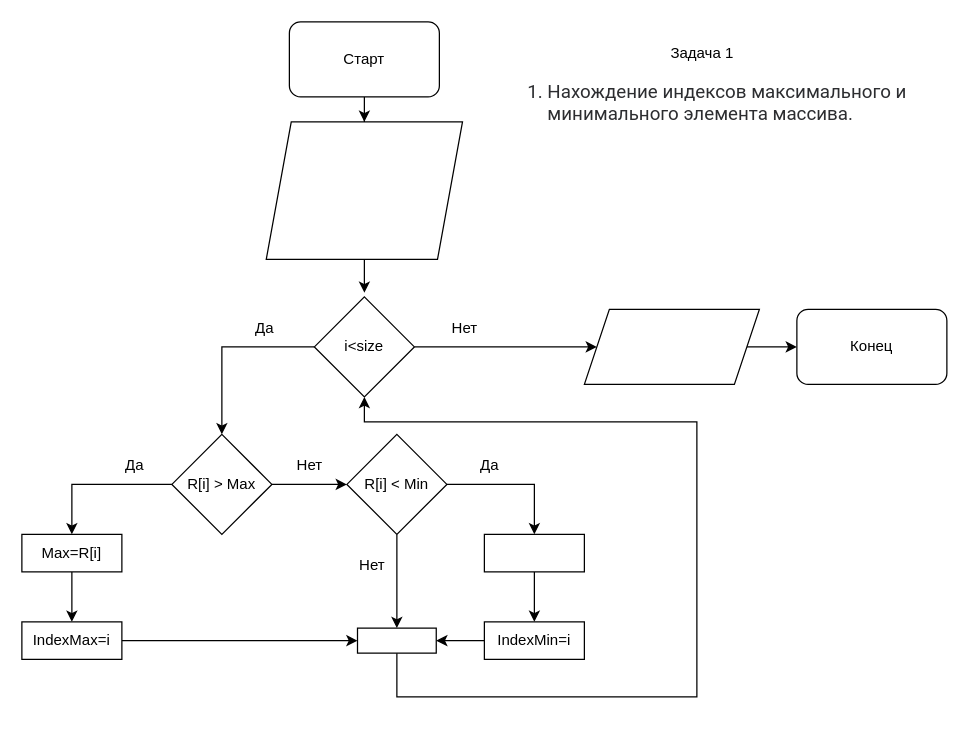
Some shapes in this 969 by 729 pixel diagram are drawn without their labels. Each missing label, with the centre of its shape:
ArrayR size i=0 Max=0 Min=0 IndexMax IndexMin: (363,190)
i=i+1: (396,640)
Min=R[i]: (533,552)
Print (IndexMax,IndexMin): (671,346)
